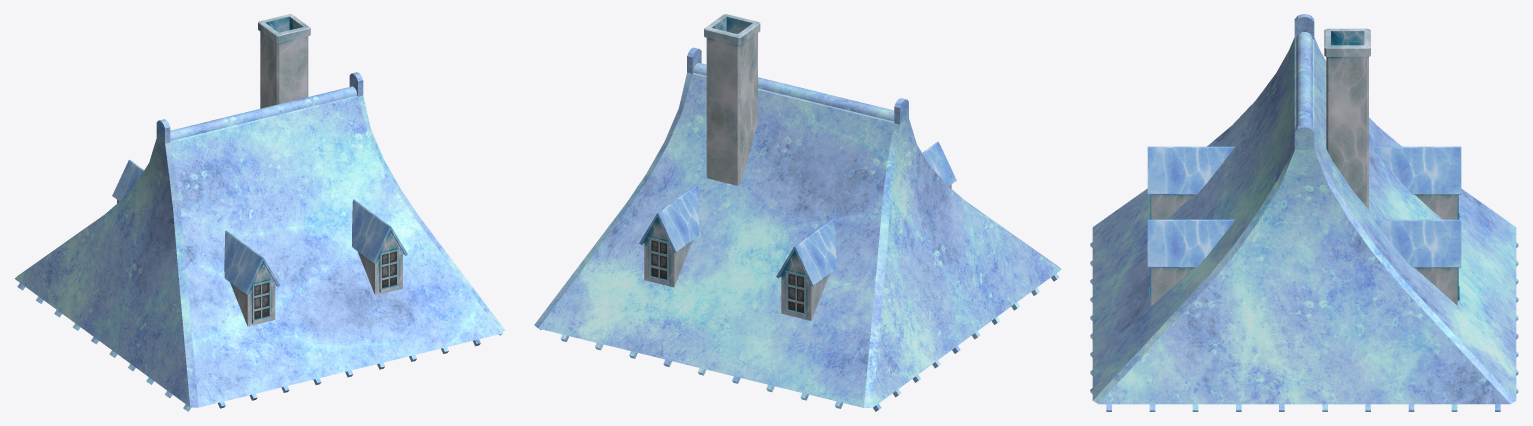
The model's file is sb_obj_outdoor023_IceCastle01_roof02.fbx.
3 views of the same model, side by side, from view 1: azimuth 30°, elevation 25°; view 2: azimuth 150°, elevation 25°; view 3: azimuth 270°, elevation 25° (orthographic). The views are drawn at different scales.
Parts seen in each view (by area): view 1: sb_obj_outdoor023_IceCastle01_roof02; view 2: sb_obj_outdoor023_IceCastle01_roof02; view 3: sb_obj_outdoor023_IceCastle01_roof02.
Boxes of the visible parts, x1=… form: sb_obj_outdoor023_IceCastle01_roof02: x1=14, y1=14, x2=505, y2=411; sb_obj_outdoor023_IceCastle01_roof02: x1=534, y1=14, x2=1061, y2=411; sb_obj_outdoor023_IceCastle01_roof02: x1=1090, y1=14, x2=1518, y2=411.
Bounding box in the file's own units: 9.98 × 7.9 × 9.92.
